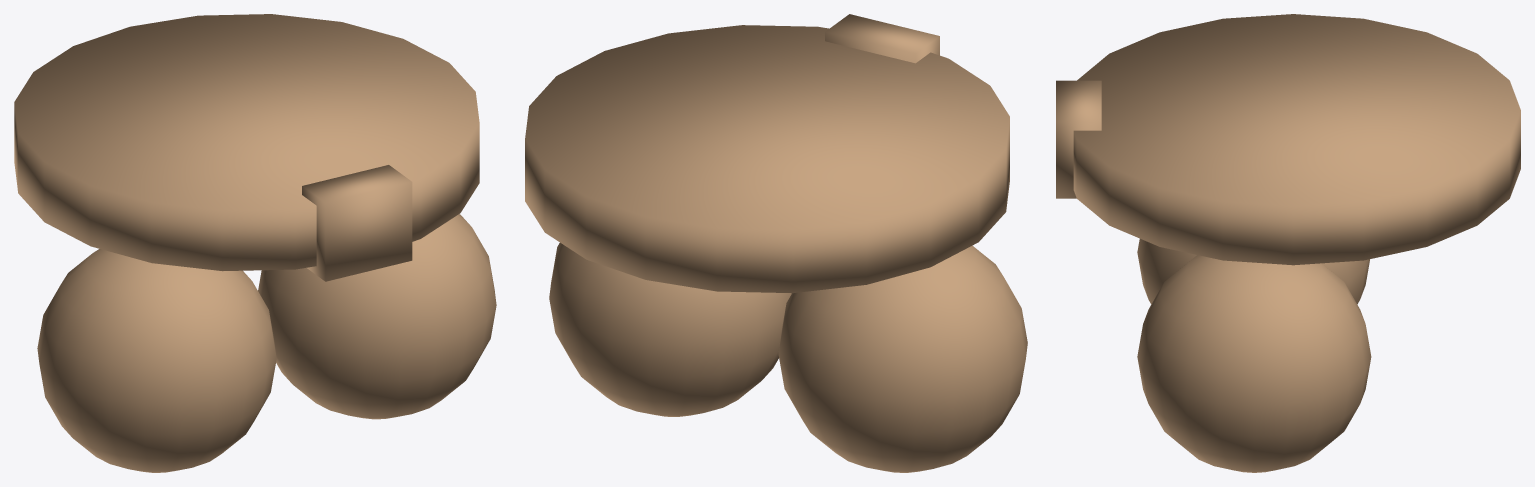
File: gnome_boots.fbx
The picture shows the model from 3 angles, left to right: view 1: azimuth 30°, elevation 25°; view 2: azimuth 150°, elevation 25°; view 3: azimuth 270°, elevation 25°; orthographic projection. The views are drawn at different scales.
Visible parts, largest first — view 1: gnome_boots; view 2: gnome_boots; view 3: gnome_boots.
Boxes of the visible parts, x1=… form: gnome_boots: x1=14, y1=14, x2=496, y2=472; gnome_boots: x1=525, y1=14, x2=1027, y2=472; gnome_boots: x1=1056, y1=14, x2=1520, y2=472.
Bounding box in the file's own units: 148 × 105 × 143.
